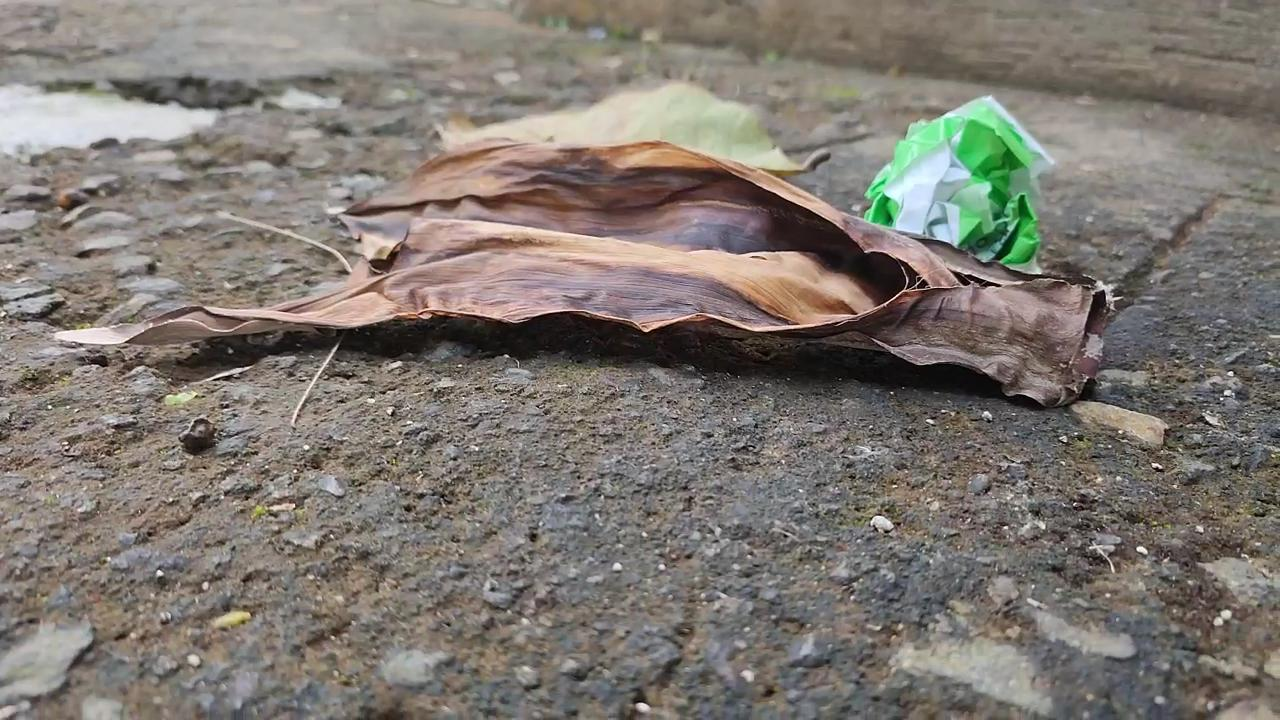Paper: (858, 78, 1052, 290)
